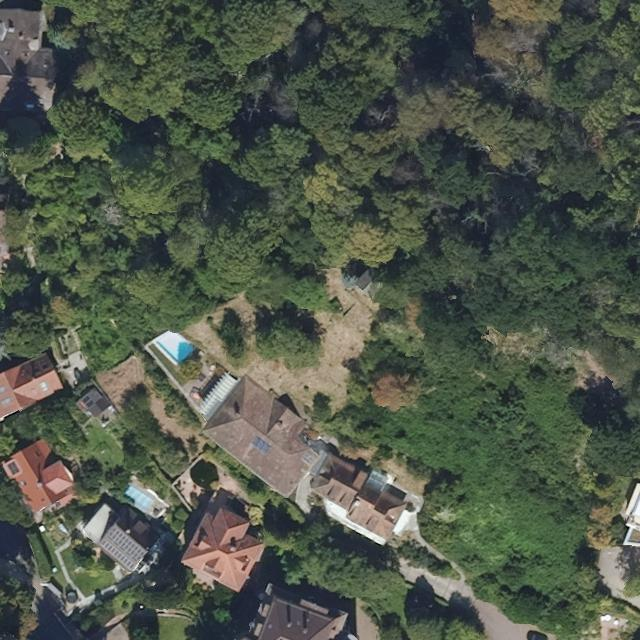PV: (104, 524, 146, 564), (99, 537, 137, 571)
